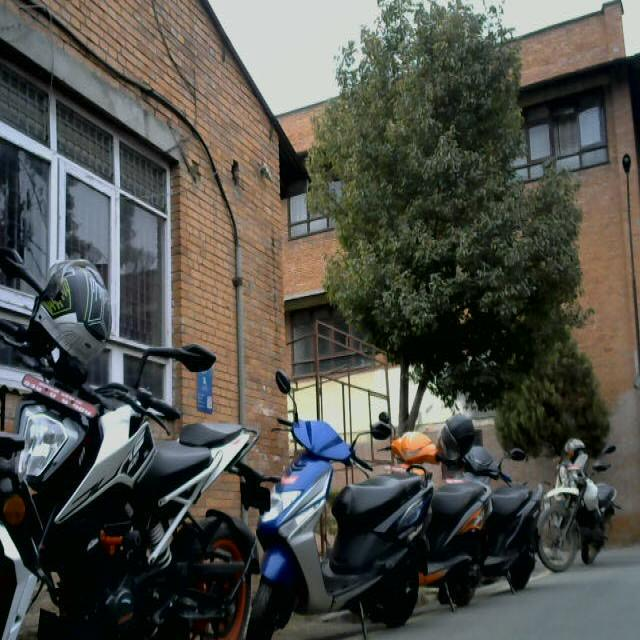Bike: (1, 236, 250, 639), (272, 355, 541, 625), (544, 426, 617, 574)
Buildings: (1, 1, 296, 336)
Pole: (604, 141, 640, 408)
trees: (292, 0, 590, 320)
